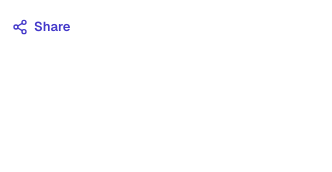
Test: participant actions › copies an absolute share link and offers a manual fallback on clipboard failure
Click the button with aria-label "Copy project link".
click(41, 27)  # box [12,12,70,41]
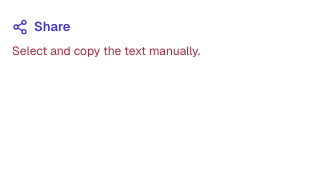
Expected: the message shows "copy the text manually", [12,44,200,60]
Click the button with aria-label "Copy project link".
click(41, 27)  # box [12,12,70,41]
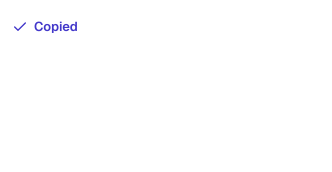
Expected: the button "Copied" is shown, [12,12,78,41]
Expected: the message "Select and copy the text manually." is gone
